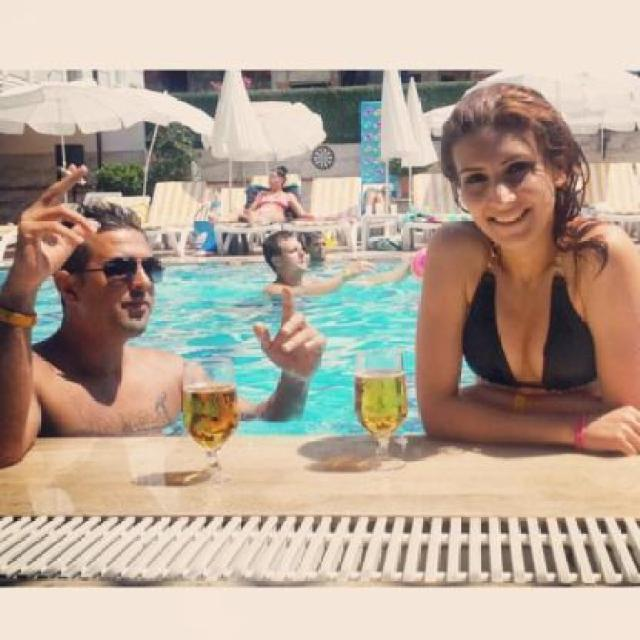face_nomask: (461, 160, 541, 232), (99, 252, 164, 321), (278, 241, 310, 273)
glasses: (55, 252, 162, 298)
hand_noglove: (11, 159, 100, 284), (245, 284, 333, 378), (589, 402, 640, 456)
head_nohelmet: (444, 82, 542, 141), (267, 224, 299, 245)
person: (394, 74, 640, 452), (10, 154, 236, 466)
